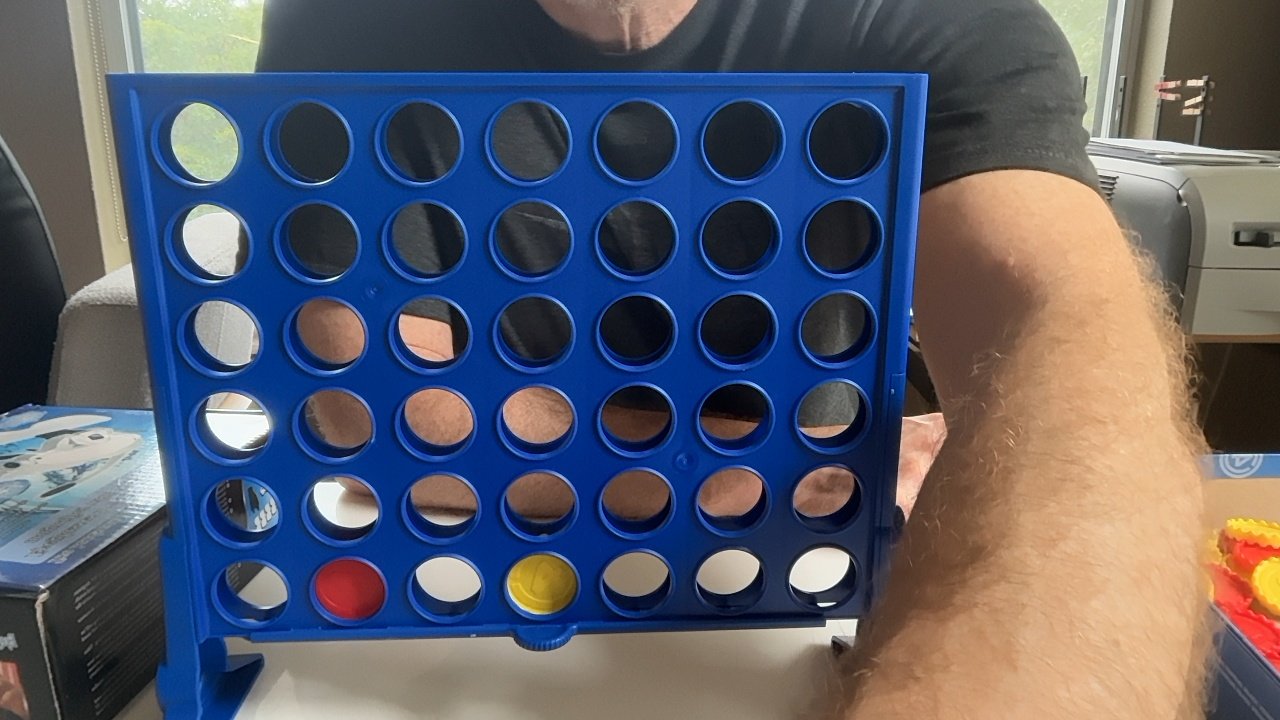red piece: (314, 558, 386, 621)
yellow piece: (507, 554, 577, 614)
